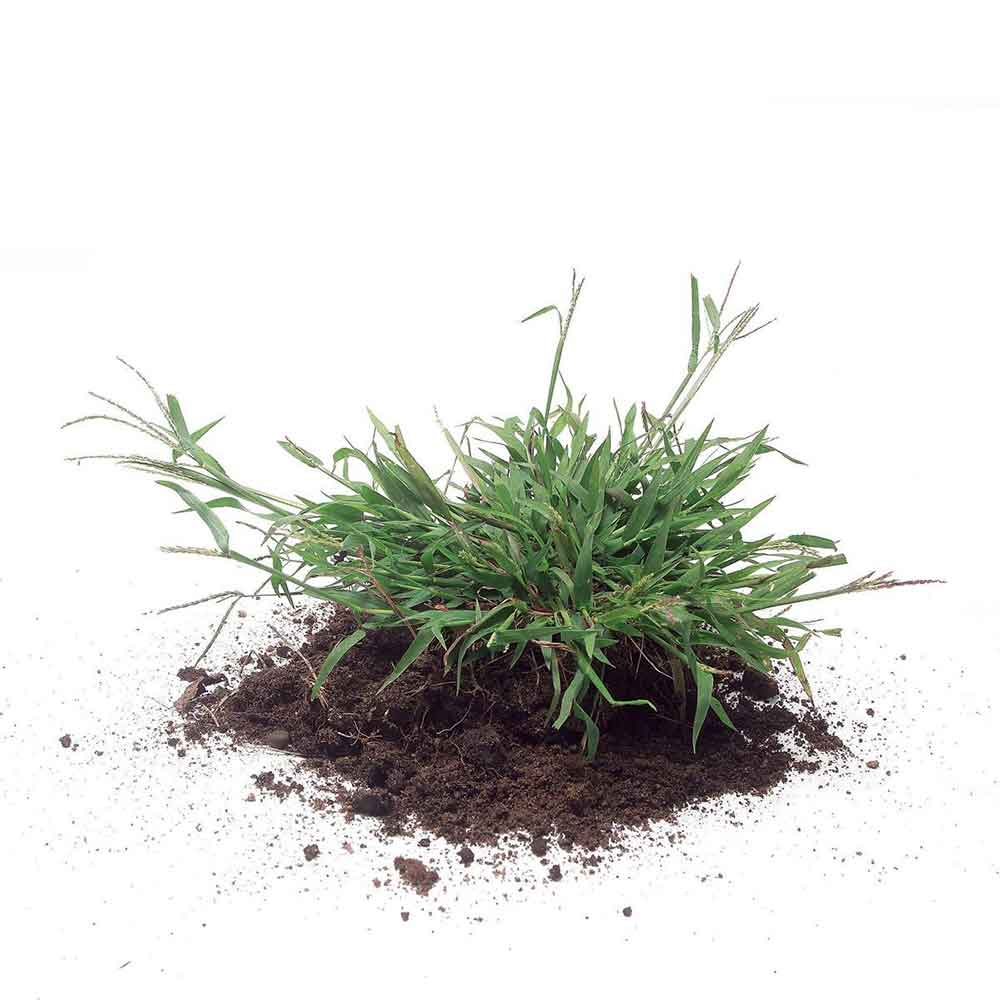crabgrass: (232, 360, 826, 703)
